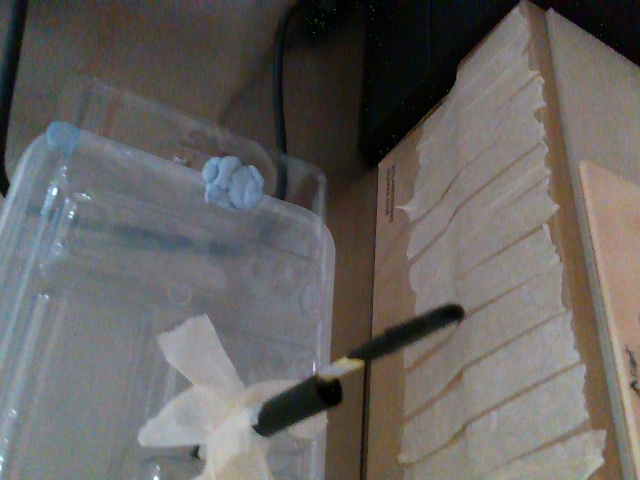test_strip: (313, 302, 463, 382)
